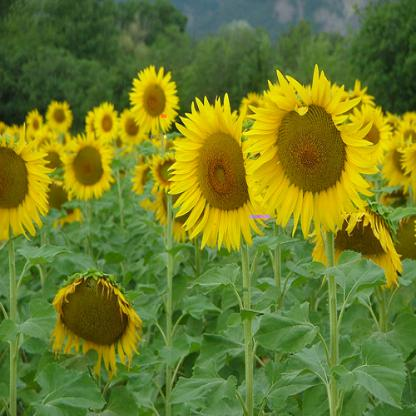SUN FLOWER: (2, 50, 405, 371)
